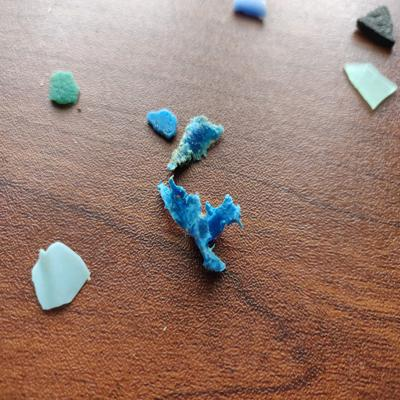plastic: (153, 175, 247, 279), (23, 235, 94, 312), (165, 112, 230, 172), (340, 55, 400, 114), (351, 3, 400, 52), (46, 65, 82, 111), (142, 103, 181, 144)
